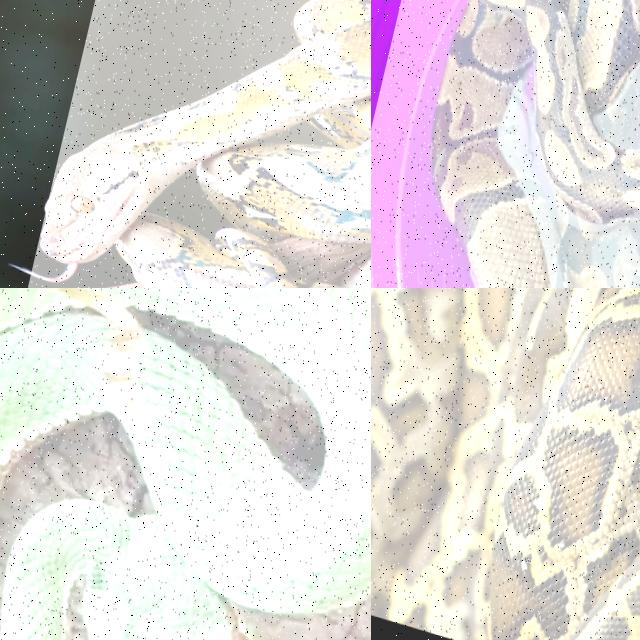Malayopython reticulatus: (41, 0, 370, 287)
Python bivittatus: (371, 288, 639, 639), (431, 0, 639, 287)
Trimeresurus: (0, 288, 370, 639)
snake: (0, 288, 370, 639), (41, 0, 370, 287), (371, 288, 639, 639), (431, 0, 639, 287)
